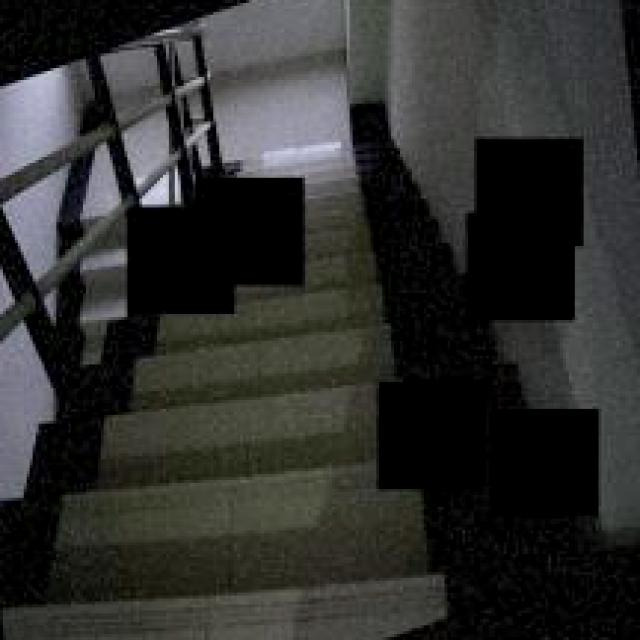downstair: (61, 339, 372, 640)
